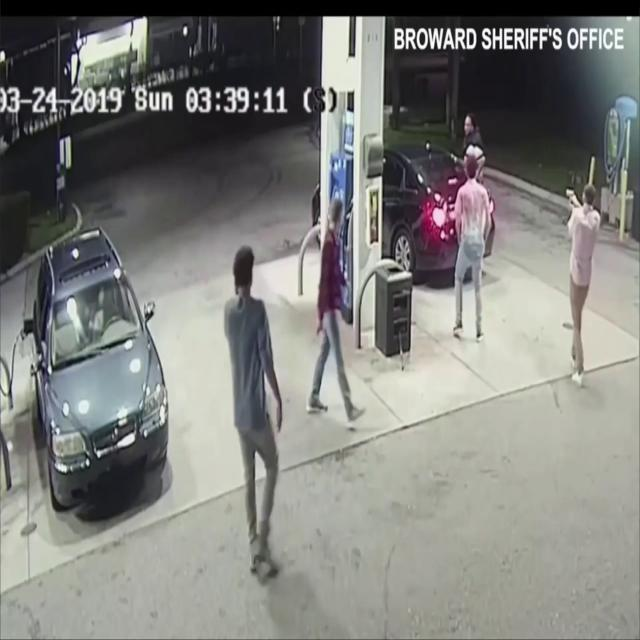Gun: (553, 184, 585, 214)
